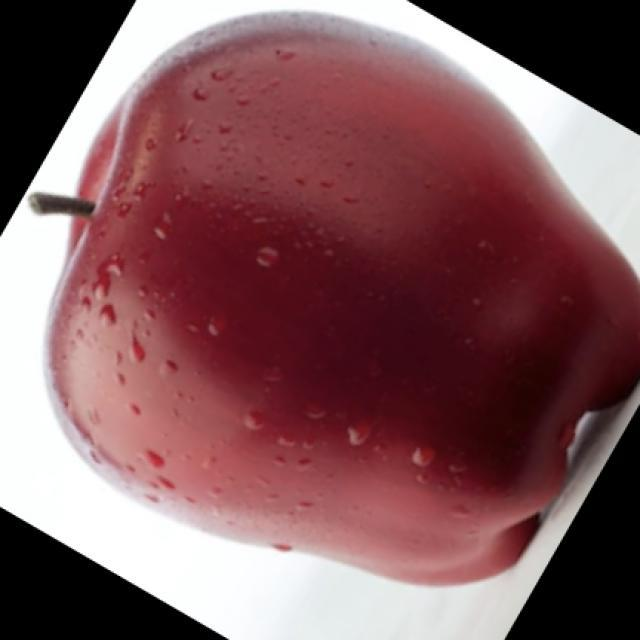Fresh Apple: (40, 0, 640, 587)
